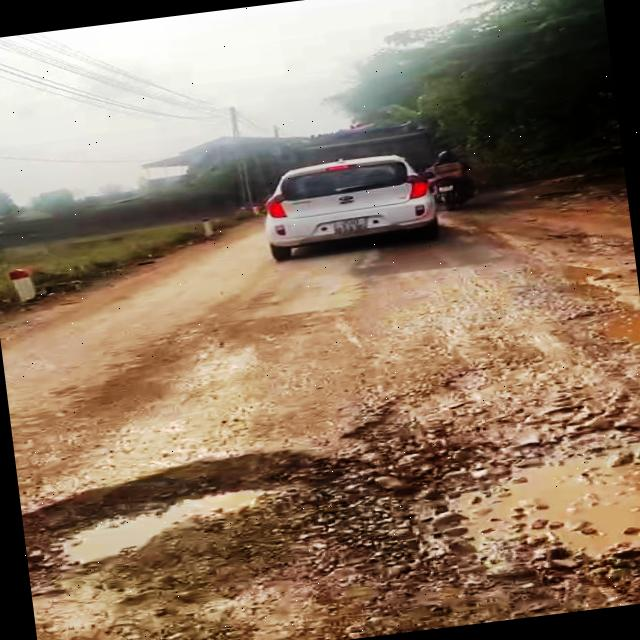pothole: (315, 338, 640, 623), (19, 428, 397, 594), (552, 260, 640, 355)
